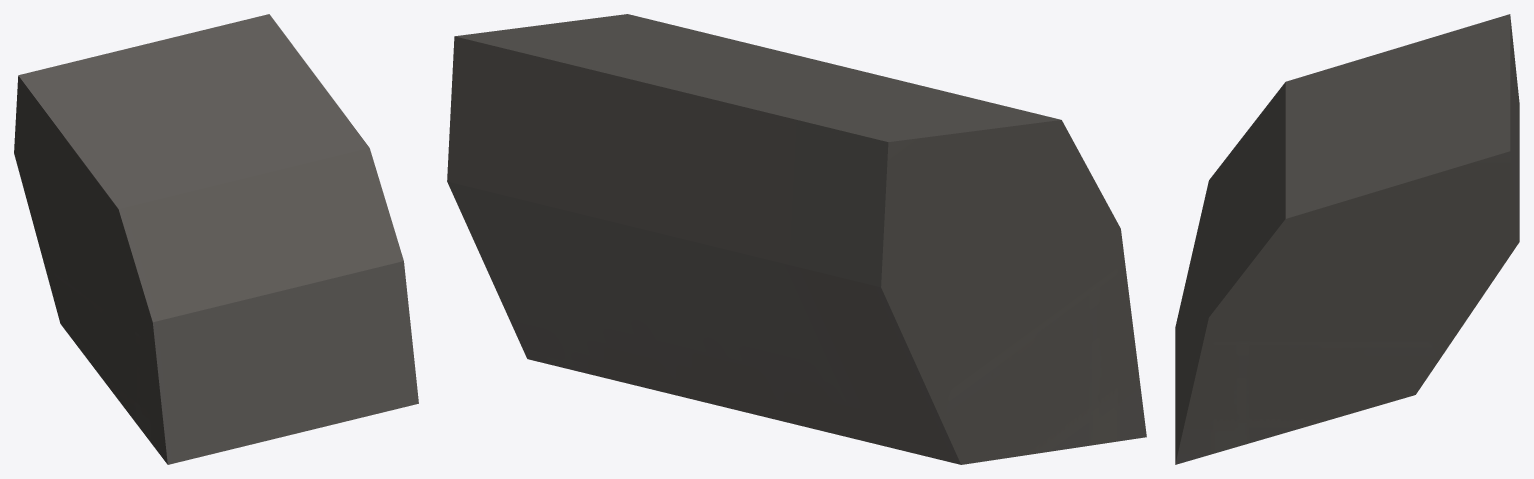
File: SM_Rubble_Trim_Chip_01.fbx
3 renders of one model, left to right at view 1: azimuth 30°, elevation 25°; view 2: azimuth 150°, elevation 25°; view 3: azimuth 270°, elevation 25°, orthographic. The views are drawn at different scales.
Parts seen in each view (by area): view 1: SM_Rubble_Trim_Chip_01; view 2: SM_Rubble_Trim_Chip_01; view 3: SM_Rubble_Trim_Chip_01.
Part boxes in pixels (box(x1,y1,x2,y2)): SM_Rubble_Trim_Chip_01: box(14, 14, 418, 464); SM_Rubble_Trim_Chip_01: box(447, 14, 1146, 464); SM_Rubble_Trim_Chip_01: box(1175, 14, 1519, 464).
Size of the model in its own units: 43.62 by 46.5 by 46.27.
